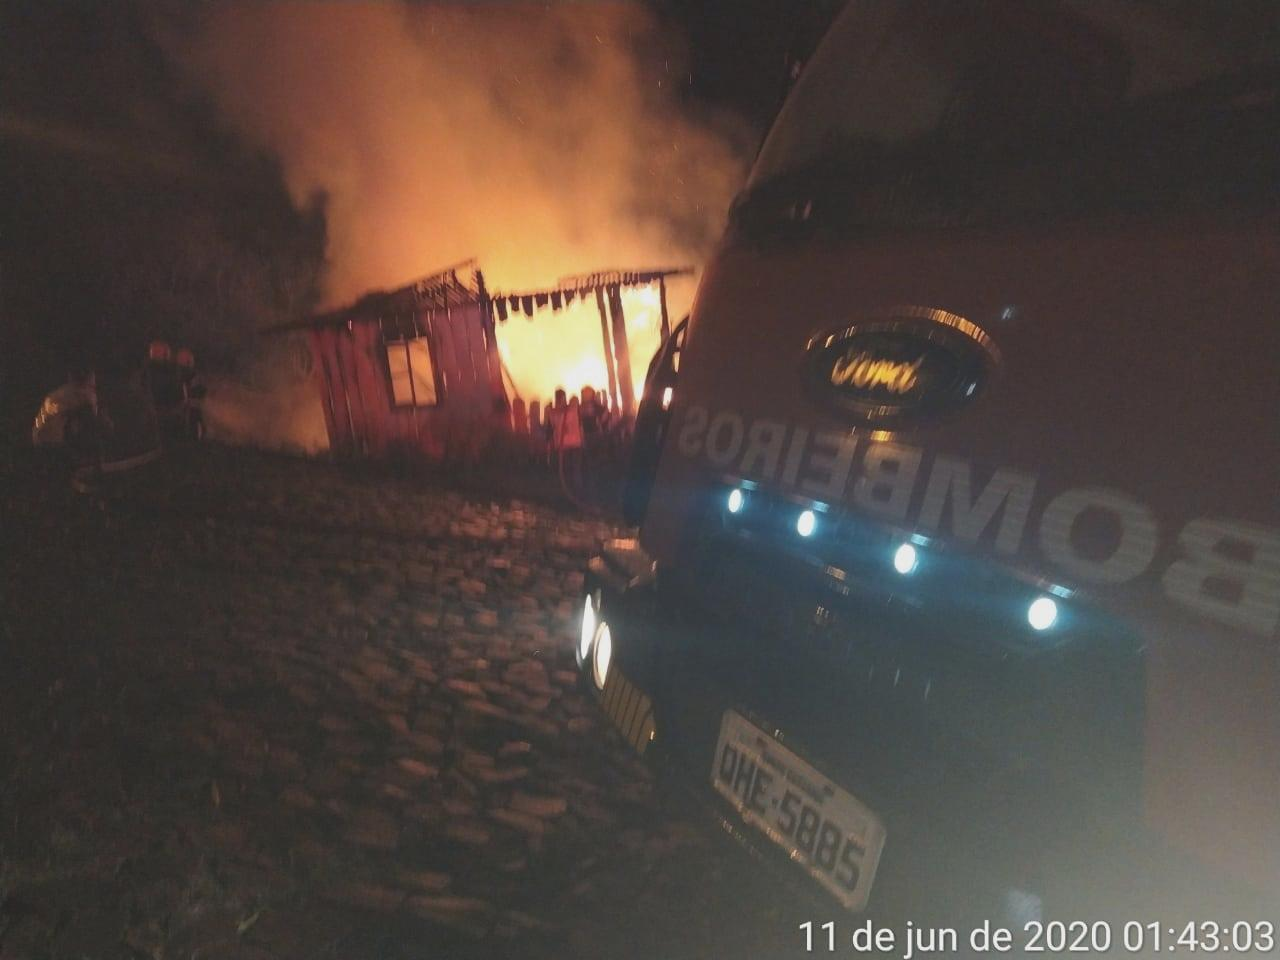Fire: (476, 259, 657, 400)
